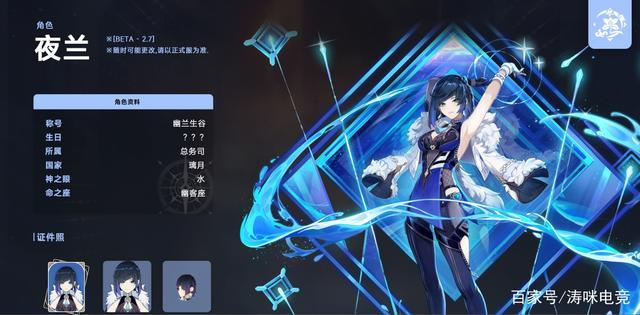夜兰: (401, 60, 528, 315), (104, 263, 151, 314), (49, 265, 82, 311), (173, 269, 197, 305)
